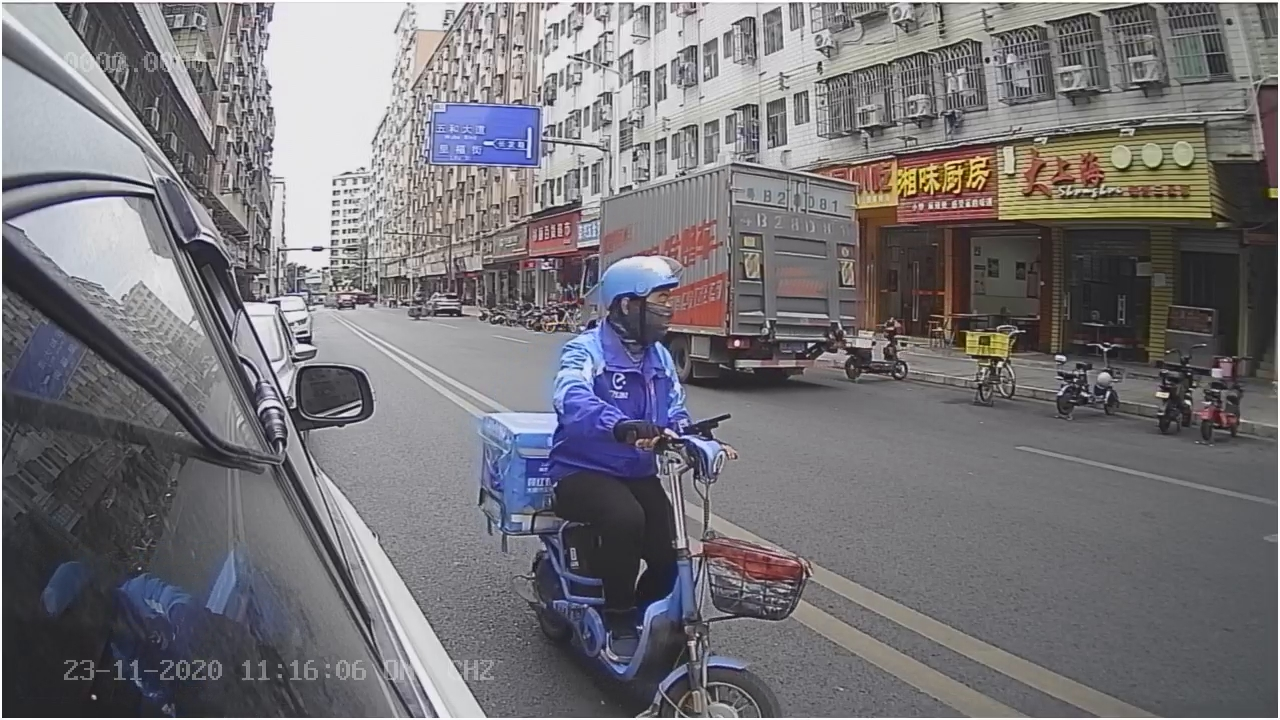person: (546, 251, 709, 418)
